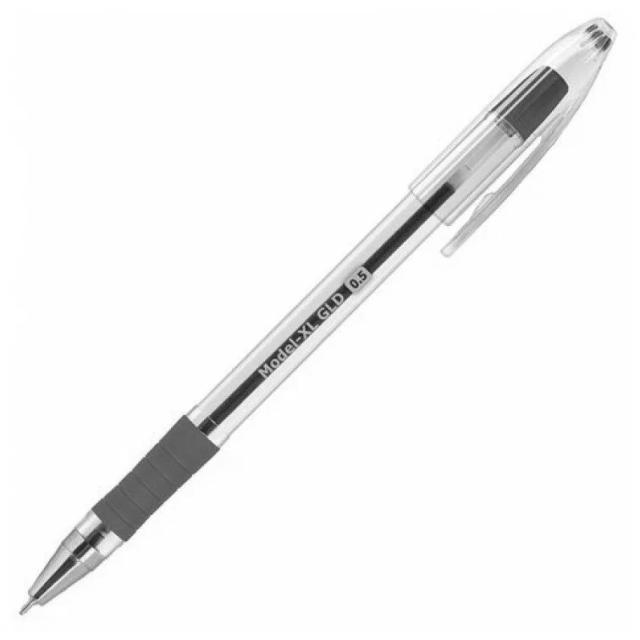pencil: (10, 8, 616, 628)
